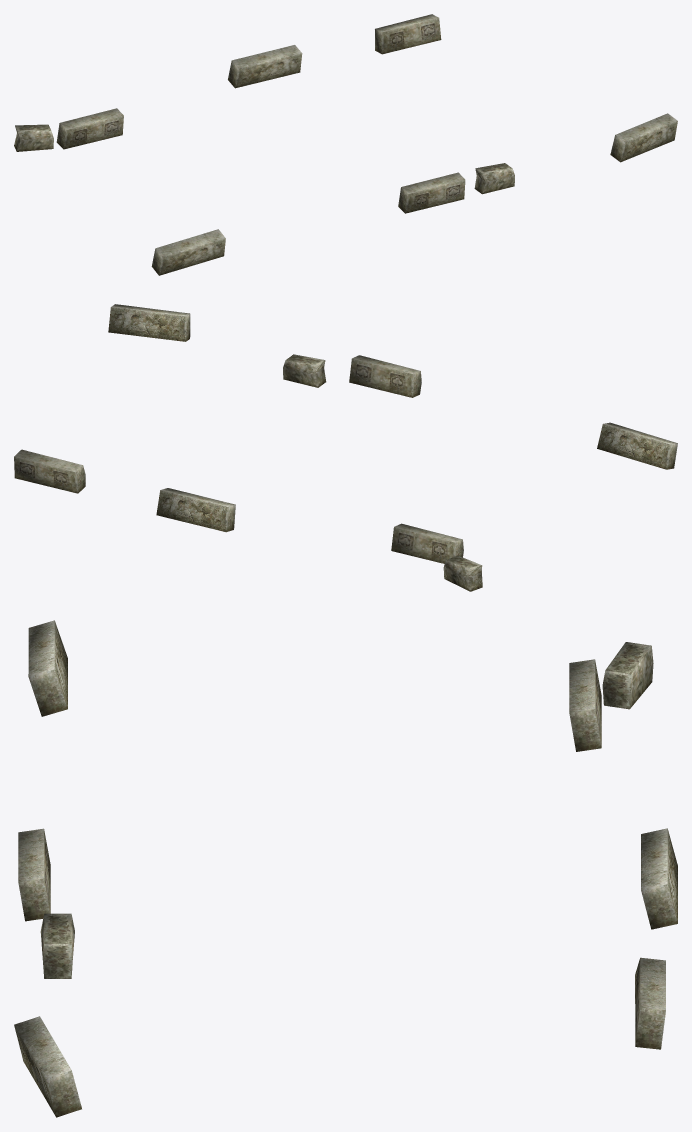
The model's file is OZ_20_ma_block01D.glb.
3 renders of one model, top to bottom at view 1: azimuth 30°, elevation 25°; view 2: azimuth 150°, elevation 25°; view 3: azimuth 270°, elevation 25°, orthographic. The views are drawn at different scales.
Parts seen in each view (by area): view 1: OM_20_ma_block01D; view 2: OM_20_ma_block01D; view 3: OM_20_ma_block01D.
Boxes of the visible parts, x1,y1,x2,y2 form: OM_20_ma_block01D: (14,14,677,275); OM_20_ma_block01D: (14,304,677,591); OM_20_ma_block01D: (14,620,677,1117).
Size of the model in its own units: 11.99 by 0.6695 by 7.27.
1 material, 1 textured.
